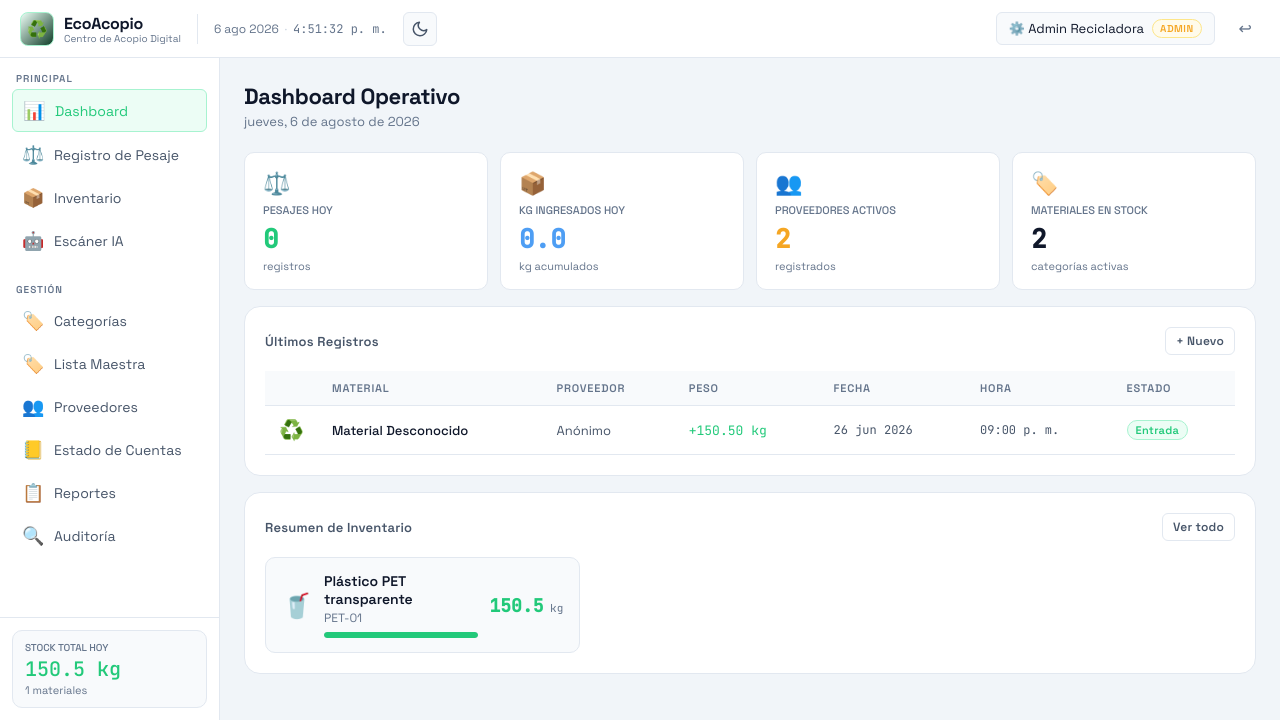
Escáner de Reciclabilidad IA › debería analizar un objeto por descripción y mostrar el resultado de la IA
The width and height of the screenshot is (1280, 720).
Expected: the element with class "topbar" is shown, [0, 0, 1279, 58]
Step 1. Click the text "Escáner IA" → x=73, y=241, box [22, 229, 124, 252]
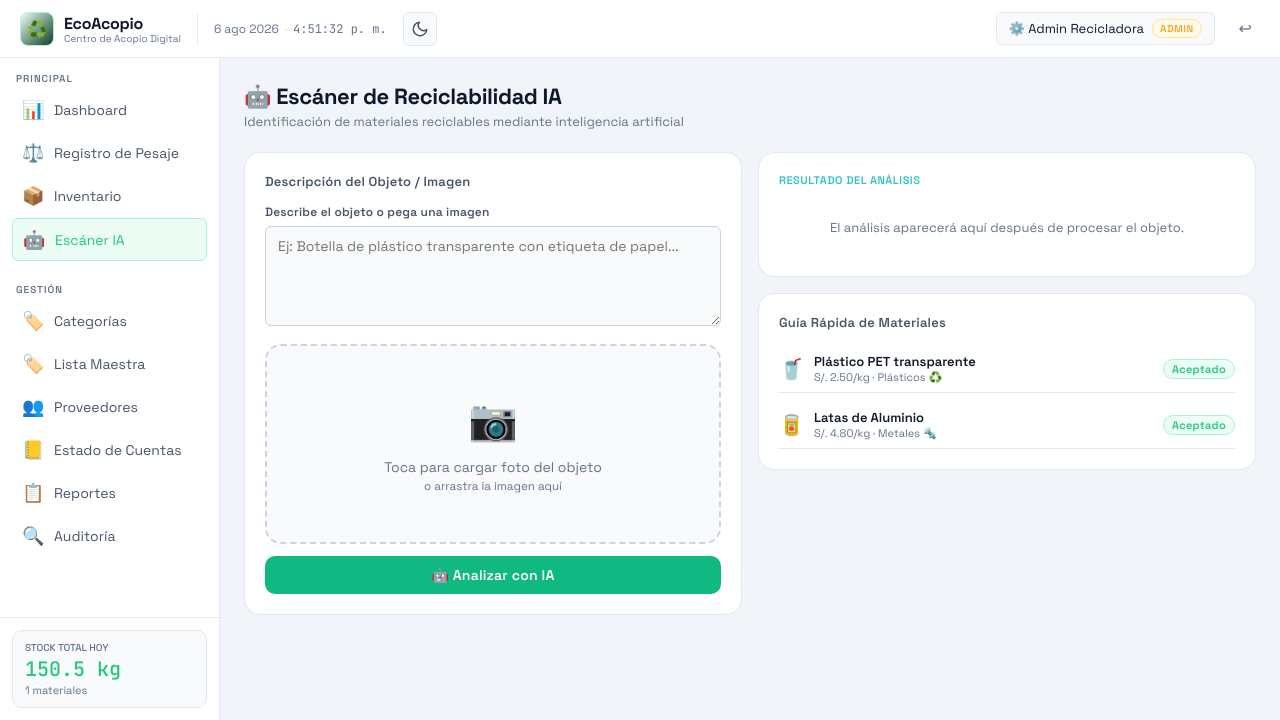
Result: the heading "🤖 Escáner de Reciclabilidad IA" is shown at [244, 82, 562, 110]
Step 2. Type "Botella de plástico transparente de gaseosa" into the text box with id "ai-desc" → x=493, y=276, box [265, 226, 721, 326]
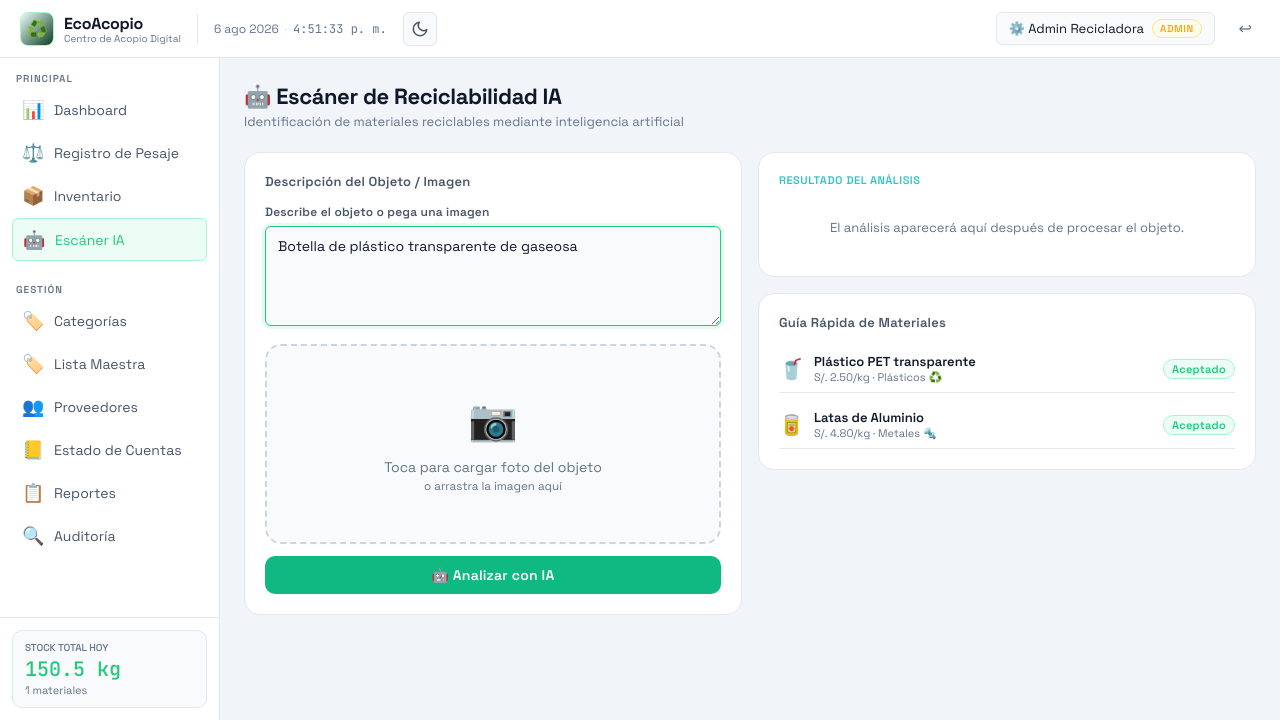
Step 3. Click the button "🤖 Analizar con IA" → x=493, y=575, box [265, 556, 721, 594]
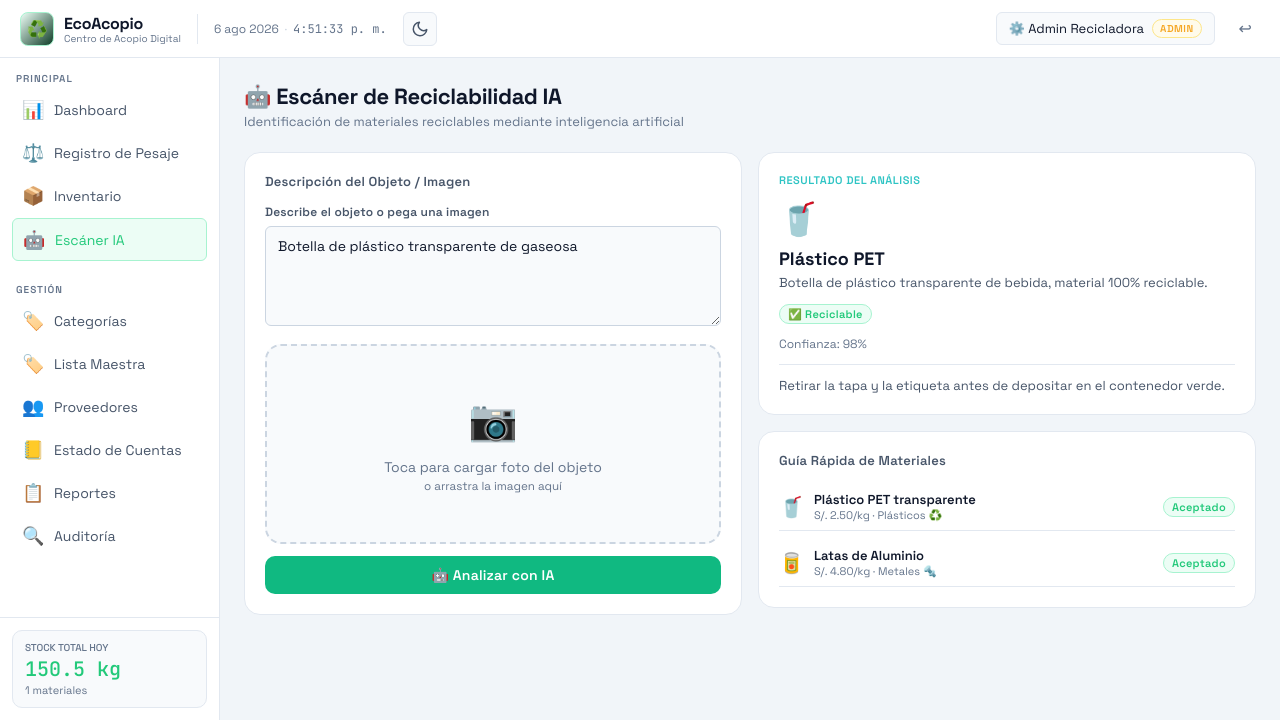
Result: the text "Reciclable" is shown at [788, 307, 863, 321]
Result: the text "Confianza: 98%" is shown at [779, 336, 867, 352]
Result: the text "Retirar la tapa y la etiqueta" is shown at [779, 377, 1225, 394]
